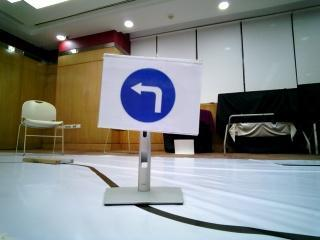left: (111, 65, 187, 126)
